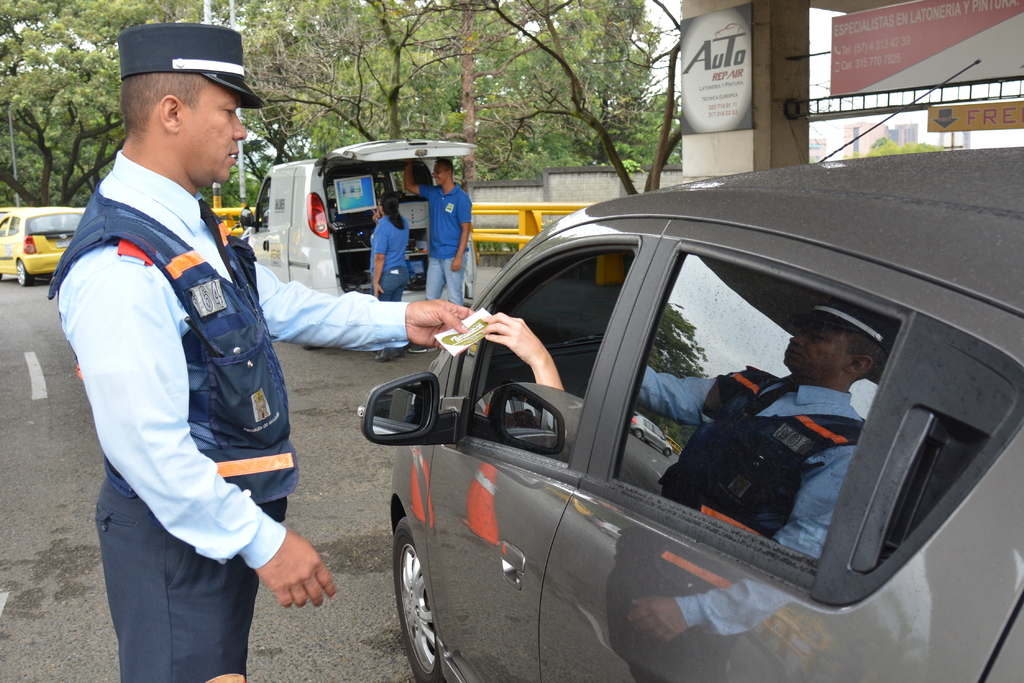cars: (356, 57, 1023, 682), (0, 207, 80, 287)
